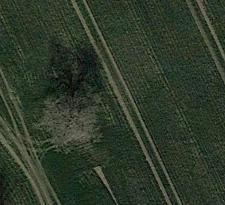tree: (42, 86, 110, 155)
